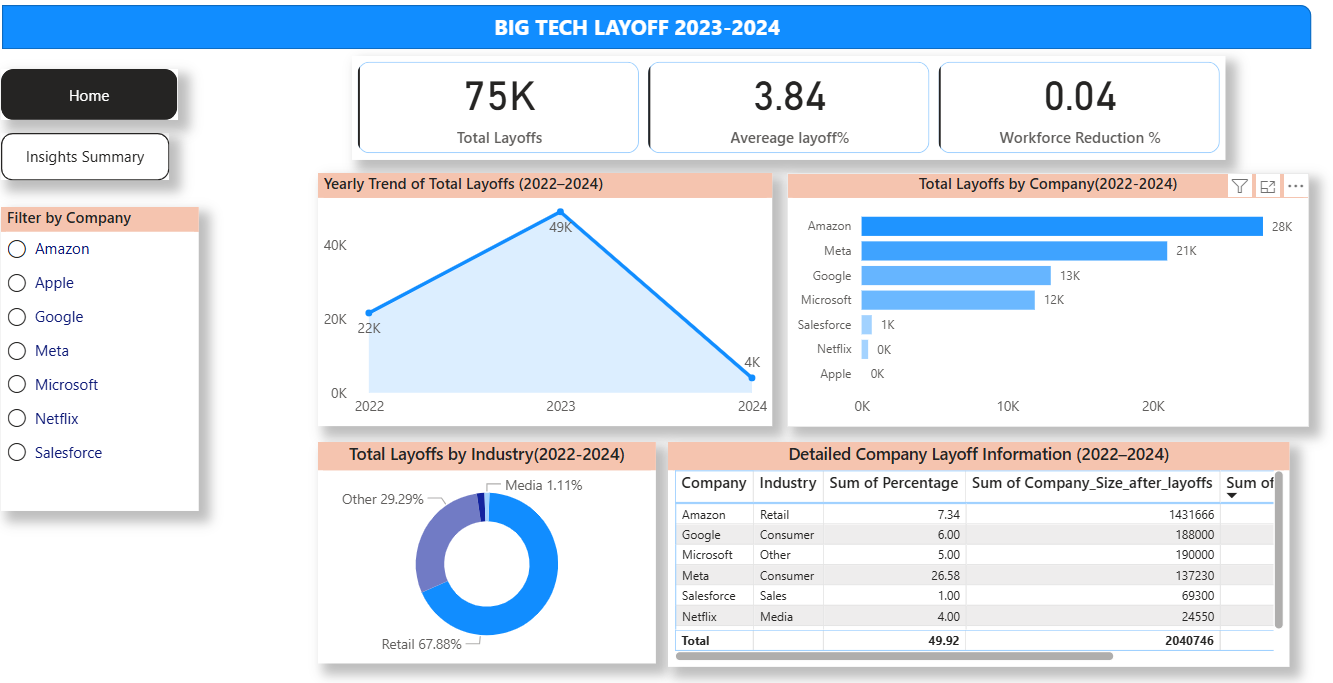

What the dashboard file says about the page in this screenshot:
{"tool":"powerbi","page":{"name":"Home","canvas":[1280,720],"ordinal":0},"visuals":[{"type":"textbox","box":[9.6,0,279.9,101.5],"z":0},{"type":"textbox","box":[302,61.1,648.1,40.4],"z":1000},{"type":"cardVisual","fields":{"Data":["BigTech.Total Layoffs","BigTech.Avereage layoff%","BigTech.Workforce Reduction %"]},"box":[319.4,56.1,773.5,91.8],"z":2000},{"type":"lineChart","title":"Yearly Trend of Total Layoffs (2022–2024)","fields":{"Y":["BigTech.Total Layoffs"],"Category":["BigTech.Year"]},"box":[289.8,159.2,402,224.5],"z":3000},{"type":"clusteredBarChart","title":"Total Layoffs by Company(2022-2024)","fields":{"Category":["BigTech.Company"],"Y":["BigTech.Total Layoffs"]},"box":[704.1,159.2,462.2,224.5],"z":4000},{"type":"donutChart","title":"Total Layoffs by Industry(2022-2024)","fields":{"Y":["BigTech.Total Layoffs"],"Category":["BigTech.Industry"]},"box":[289.8,396.9,299,195.9],"z":5000},{"type":"tableEx","title":"Detailed Company Layoff Information (2022–2024)","fields":{"Values":["BigTech.Company","BigTech.Industry","Sum(BigTech.Percentage)","Sum(BigTech.Company_Size_after_layoffs)","Sum(BigTech.Company_Size_before_Layoffs)"]},"box":[599,396.9,550,199],"z":6000},{"type":"listSlicer","title":"Filter by Company","fields":{"Values":["BigTech.Company"]},"box":[9.3,189.7,175.3,269.1],"z":7000},{"type":"pageNavigator","box":[9.3,67,156.7,45.4],"z":8000},{"type":"pageNavigator","box":[9.3,123.7,149.5,42.3],"z":9000},{"type":"shape","box":[9.8,10.9,1158.7,39.1],"z":10000},{"type":"textbox","box":[217.5,12.4,708.2,37.1],"z":11000}]}

Visuals, with their boxes on the page's 1280x720 design canvas (x1, y1, x2, y2). These are canvas units, not pixel positions in the 1333x683 screenshot, which may show the page scaled, cropped or inside an application window:
textbox: <region>10, 0, 290, 102</region>
textbox: <region>302, 61, 950, 102</region>
cardVisual - BigTech.Total Layoffs x BigTech.Avereage layoff%: <region>319, 56, 1093, 148</region>
"Yearly Trend of Total Layoffs (2022–2024)" lineChart: <region>290, 159, 692, 384</region>
"Total Layoffs by Company(2022-2024)" clusteredBarChart: <region>704, 159, 1166, 384</region>
"Total Layoffs by Industry(2022-2024)" donutChart: <region>290, 397, 589, 593</region>
"Detailed Company Layoff Information (2022–2024)" tableEx: <region>599, 397, 1149, 596</region>
"Filter by Company" listSlicer: <region>9, 190, 185, 459</region>
pageNavigator: <region>9, 67, 166, 112</region>
pageNavigator: <region>9, 124, 159, 166</region>
shape: <region>10, 11, 1168, 50</region>
textbox: <region>218, 12, 926, 50</region>
